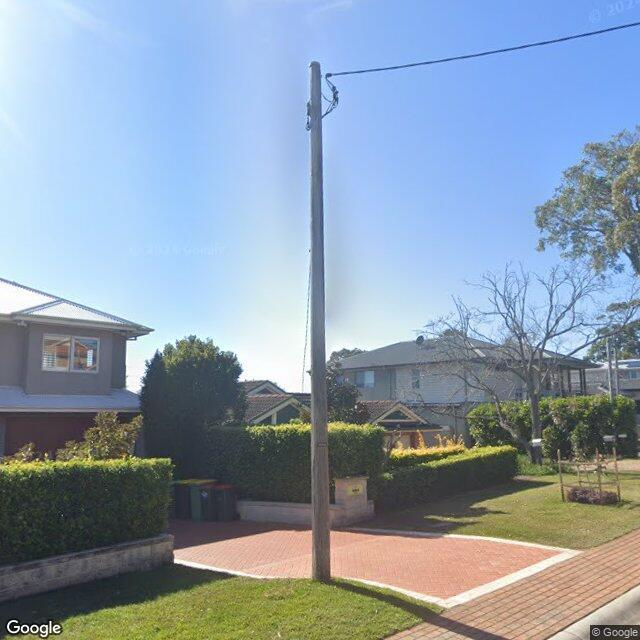timber-pole: (309, 61, 329, 581)
